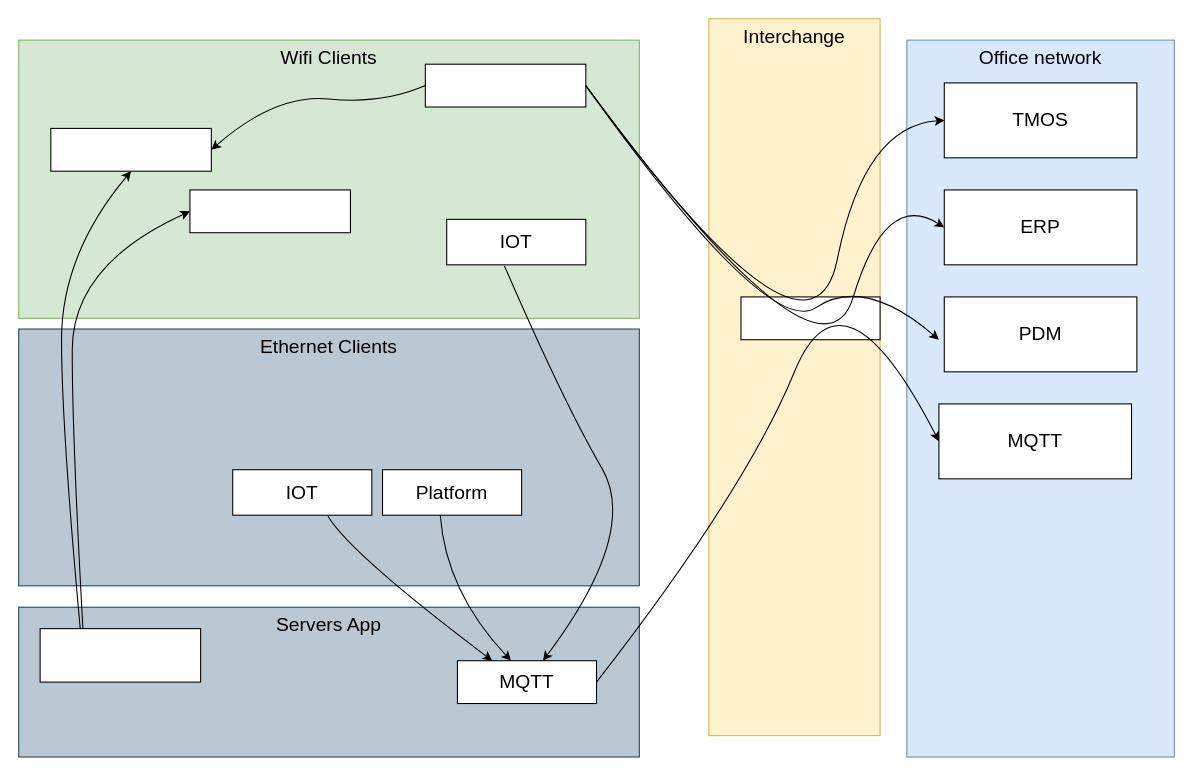
Image size: 1193x776. Some labels were removed from this diagram. Each missing label, with the centre of its shape:
"AMR" goes at (130,149).
"COBOTS" goes at (269,211).
"COBOTS CONTROLER" goes at (120,655).
"TABLETS" goes at (505,85).
"WAF" goes at (810,318).
